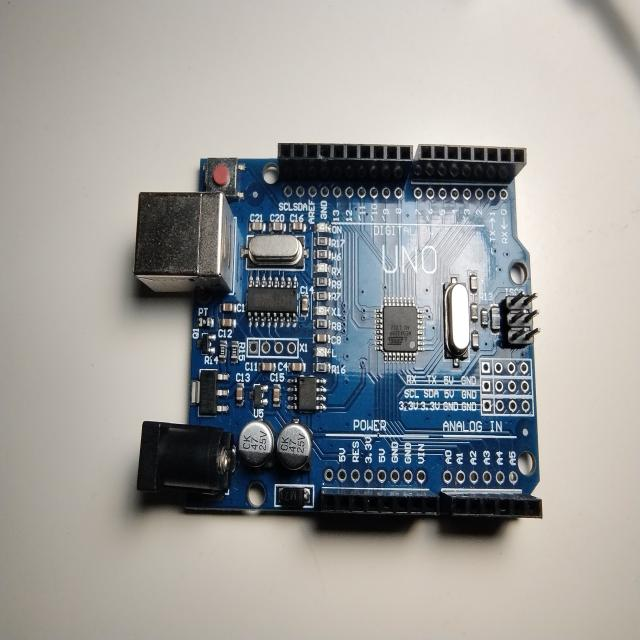arduino: (114, 134, 560, 548)
